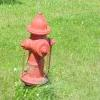a fire hydrant: (22, 11, 54, 87)
